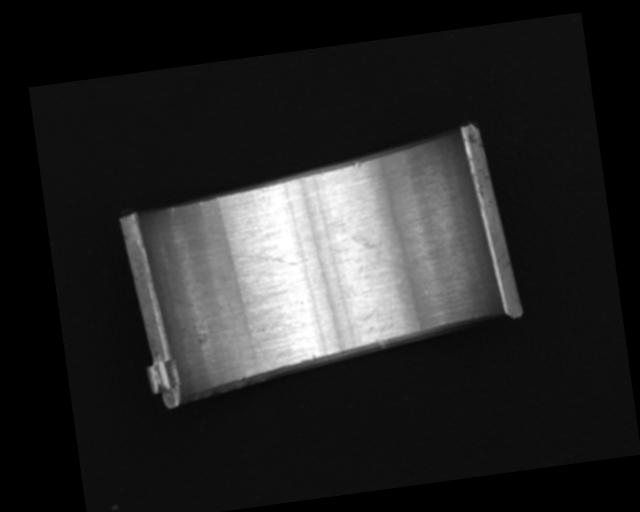blot: (349, 226, 406, 277)
bruise: (353, 160, 363, 169)
nick: (168, 205, 176, 220)
